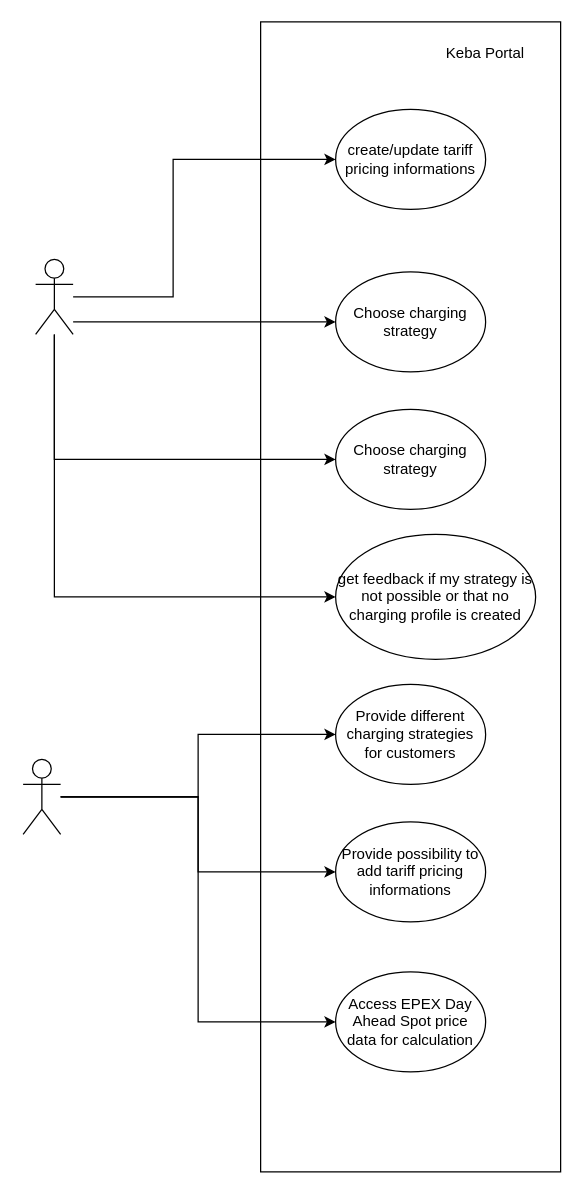
The diagram is 583 pixels wide and 1194 high, and some of its shapes have lost their labels. Here are the shapes that lost their labels. From the top down, the centre of each, then its label:
At point 53,296: "Customer".
At point 41,796: "KEBA".
